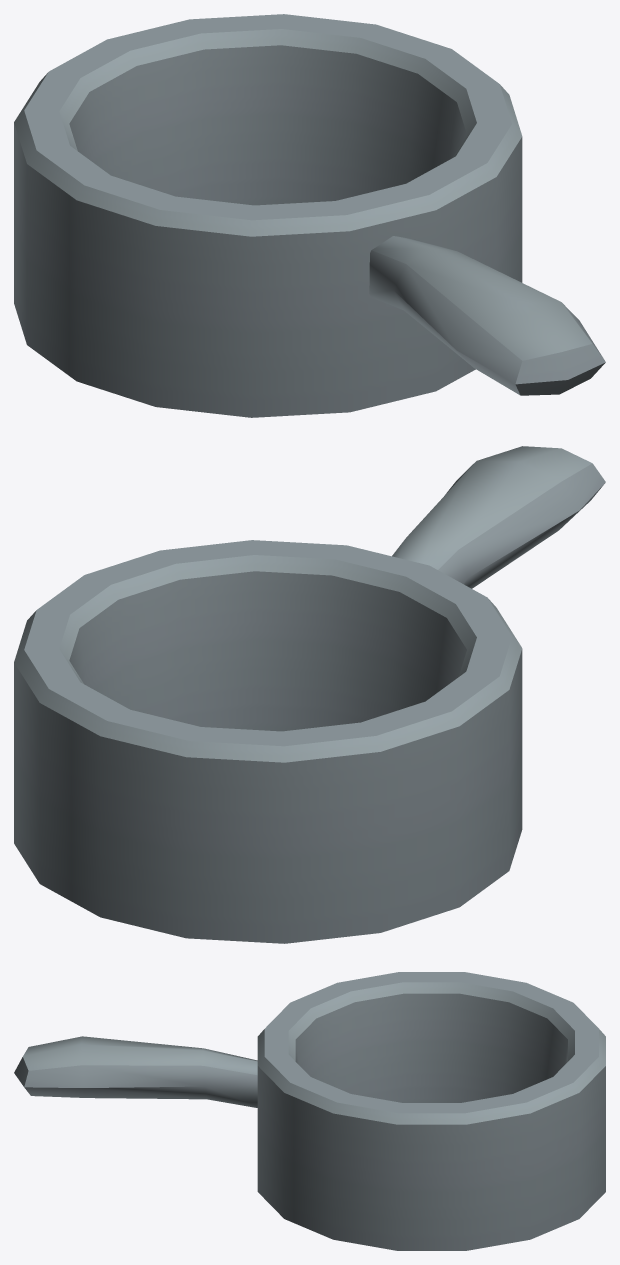
Rendered from pan-006.glb.
3 renders of one model, top to bottom at view 1: azimuth 30°, elevation 25°; view 2: azimuth 150°, elevation 25°; view 3: azimuth 270°, elevation 25°, orthographic. The views are drawn at different scales.
Parts seen in each view (by area): view 1: pan.006; view 2: pan.006; view 3: pan.006.
Boxes of the visible parts, x1=… form: pan.006: x1=14, y1=14, x2=605, y2=417; pan.006: x1=14, y1=446, x2=605, y2=943; pan.006: x1=14, y1=972, x2=605, y2=1250.
Size of the model in its own units: 0.75 by 0.3501 by 1.28.
1 material, 1 textured.
